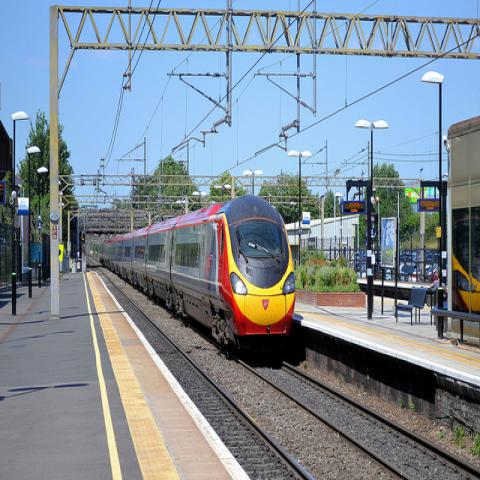car: (399, 262, 420, 282), (426, 264, 448, 282), (426, 249, 438, 263)
